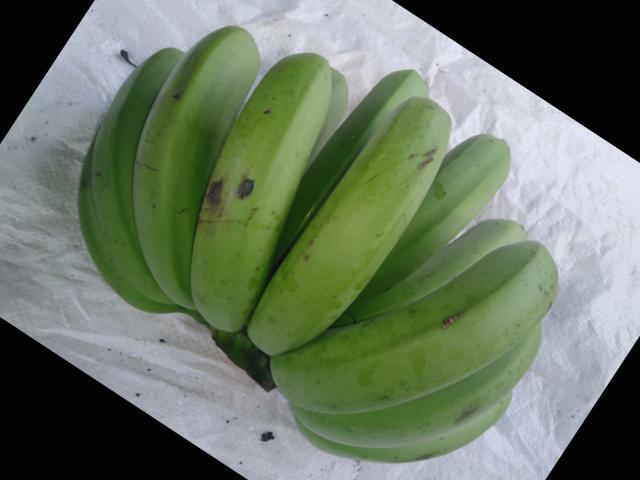freshunripe: (253, 91, 462, 383), (261, 237, 568, 427)
unripe: (177, 44, 342, 356)
